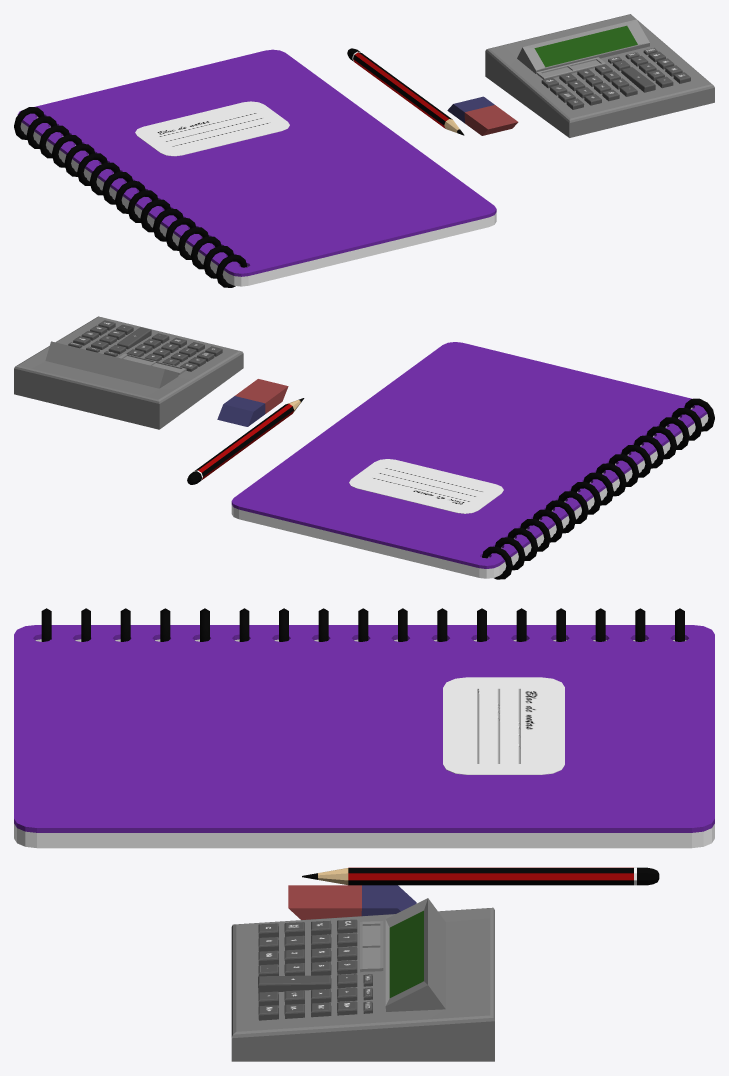
File: UtilesOficina.obj
3 views of the same model, one above another, from view 1: azimuth 30°, elevation 25°; view 2: azimuth 150°, elevation 25°; view 3: azimuth 270°, elevation 25° (orthographic). The views are drawn at different scales.
Parts seen in each view (by area): view 1: Plane.000_Plane.001, Plane.001_Plane.002; view 2: Plane.000_Plane.001, Plane.001_Plane.002; view 3: Plane.000_Plane.001, Plane.001_Plane.002.
Boxes of the visible parts, left/top/right/bottom form: Plane.000_Plane.001: left=17, top=49, right=496, bottom=276; Plane.001_Plane.002: left=14, top=14, right=714, bottom=287; Plane.000_Plane.001: left=231, top=342, right=707, bottom=568; Plane.001_Plane.002: left=14, top=316, right=714, bottom=579; Plane.000_Plane.001: left=14, top=625, right=714, bottom=832; Plane.001_Plane.002: left=14, top=608, right=714, bottom=1061.
Size of the model in its own units: 4.2 by 0.3669 by 2.92.
